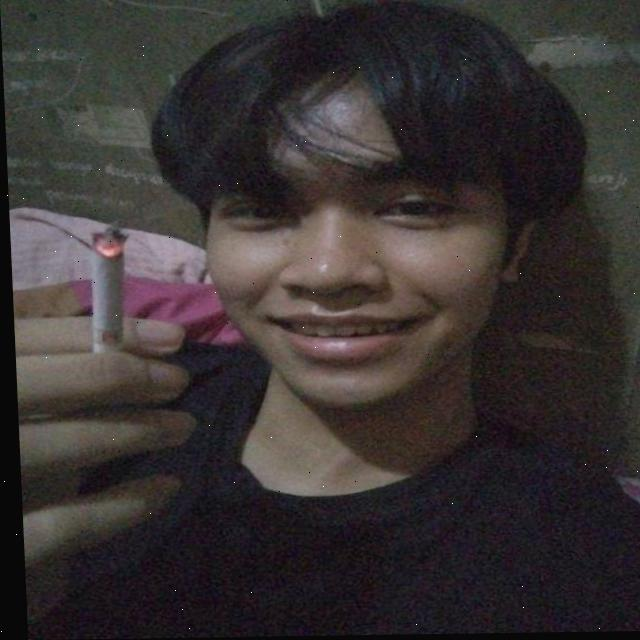cigarette: (88, 231, 123, 357)
